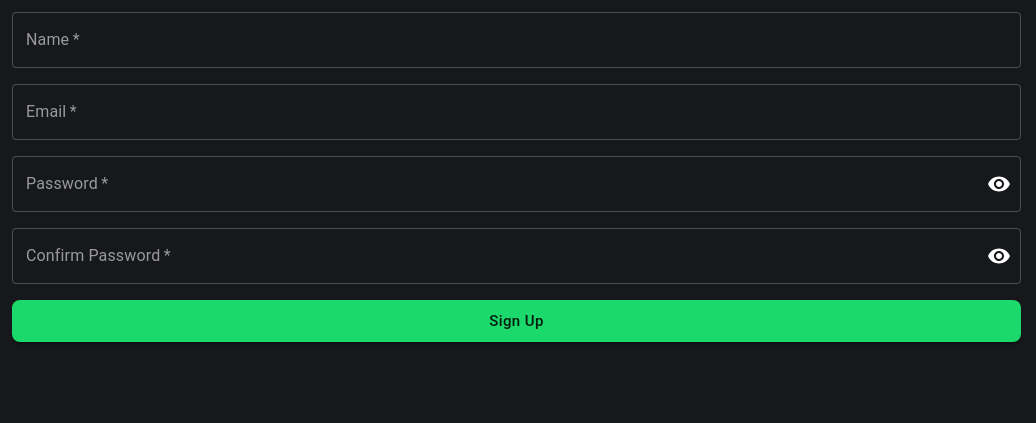
SignUpForm › should show error message on registration failure
Step 1. Type "Test User" into the field labelled "Name *" → (516, 40), box [12,12,1021,68]
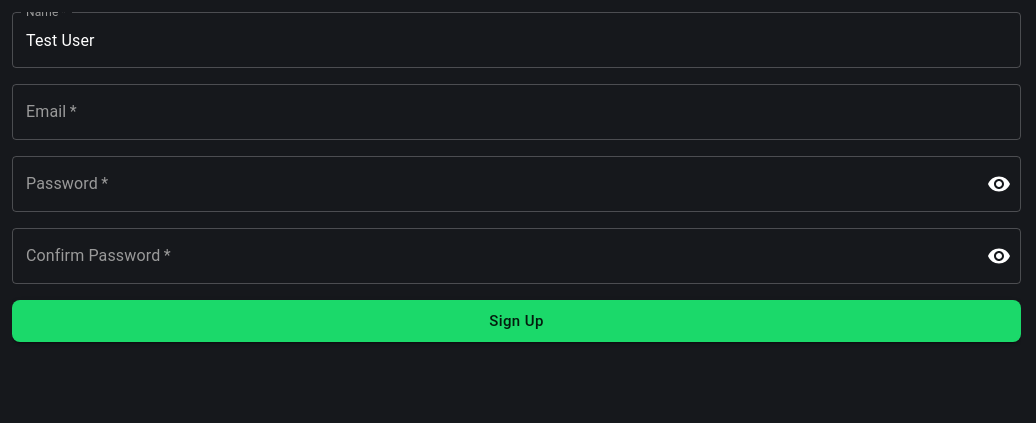
Step 2. Type "test@example.com" into the field labelled "Email *" → (516, 112), box [12,84,1021,140]
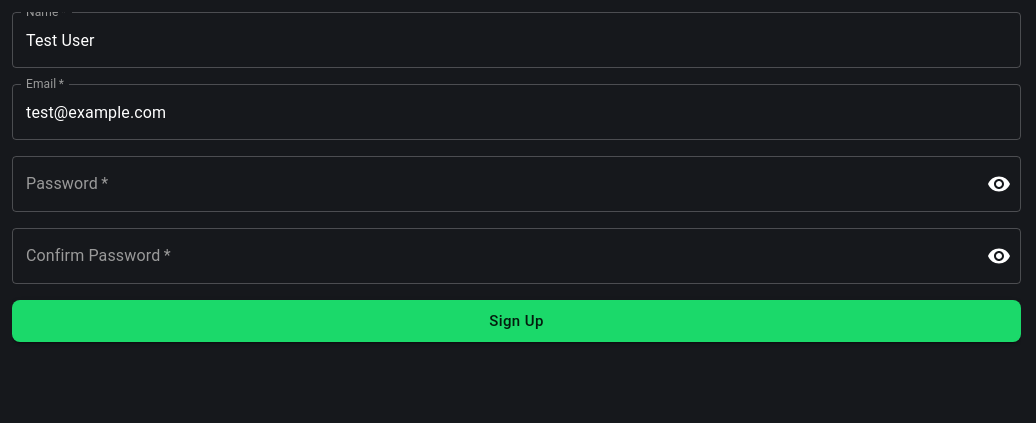
Step 3. Type "password123" into the password field labelled "Password *" → (492, 184), box [12,156,971,212]
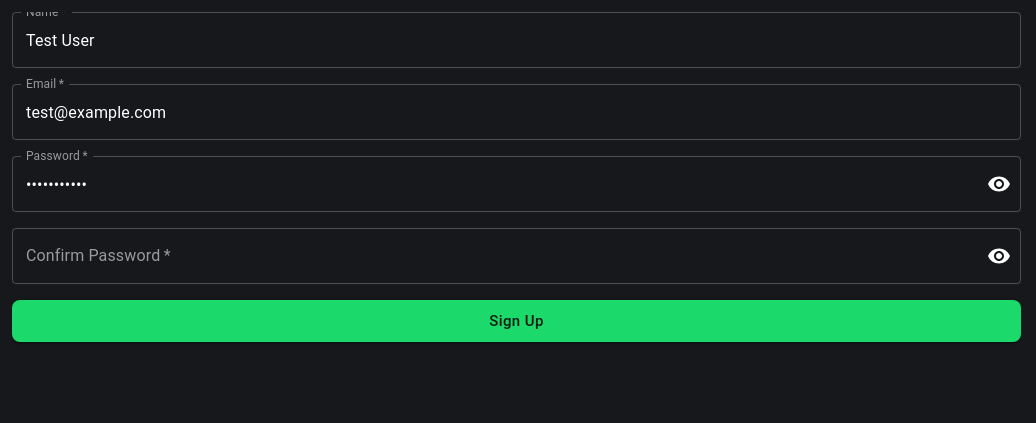
Step 4. Type "password123" into the password field labelled "Confirm Password *" → (492, 256), box [12,228,971,284]
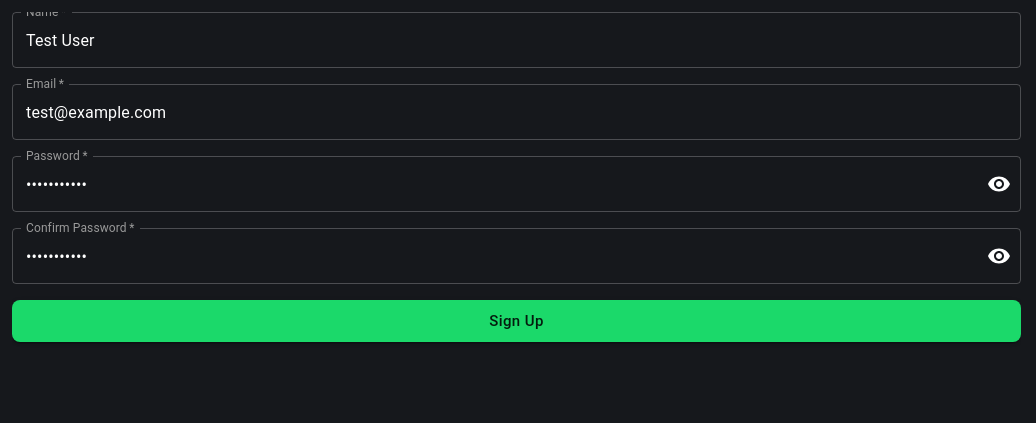
Step 5. Click the button "Sign Up" → (516, 321), box [12,300,1021,342]
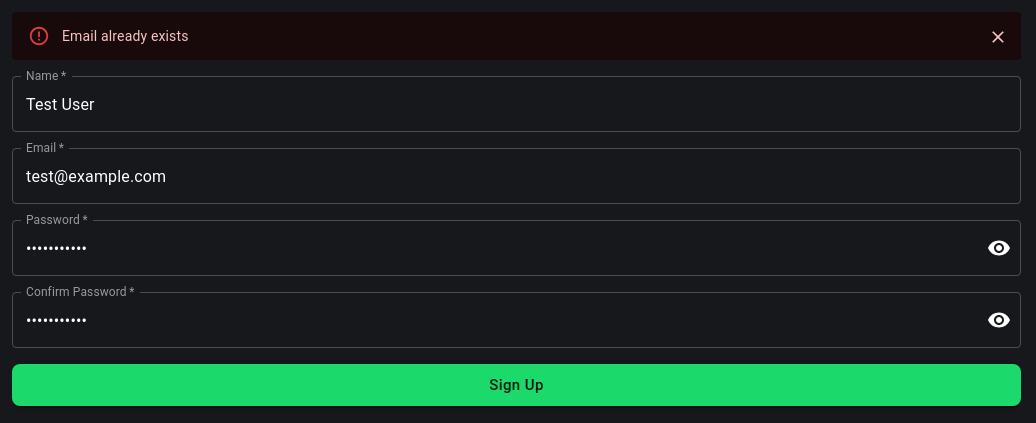
Result: the text "Email already exists" is shown at [62,28,189,44]
